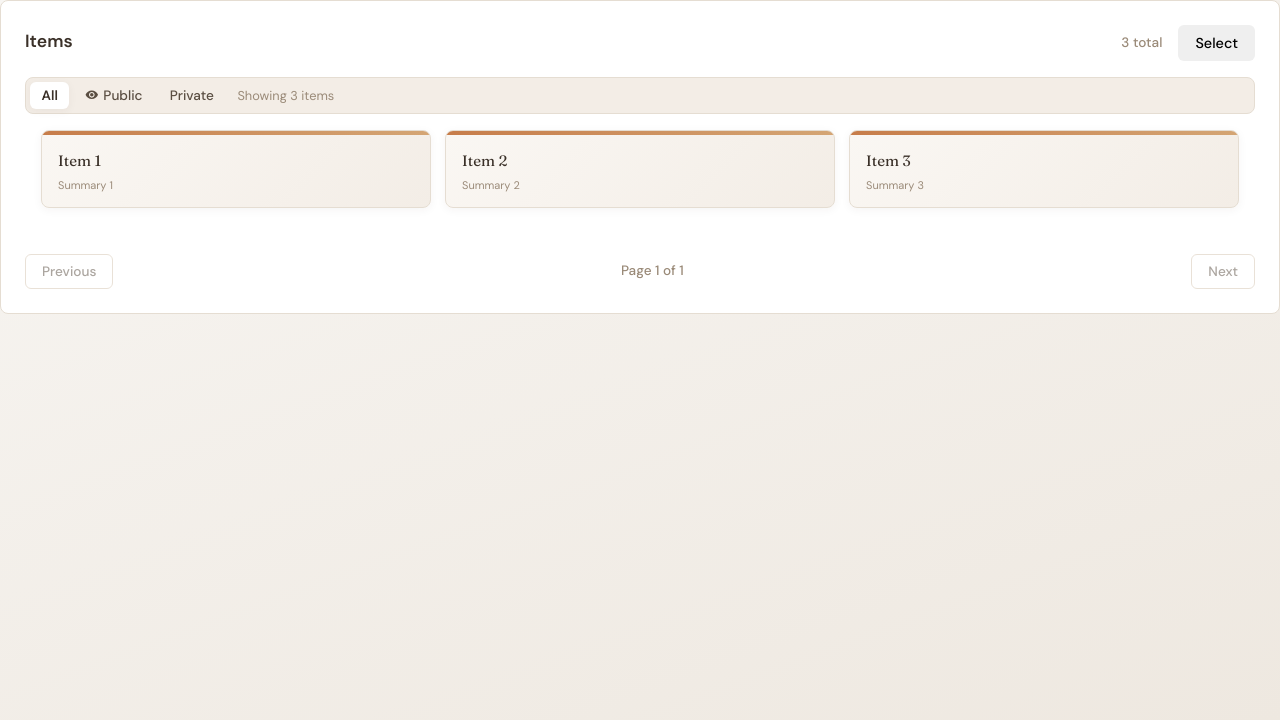
Test case: ItemList › visibility filter › should show No items when filter matches nothing
Step 1. Click the button with class "filter-btn" showing "Public" → (114, 95), box [74,82,154,108]
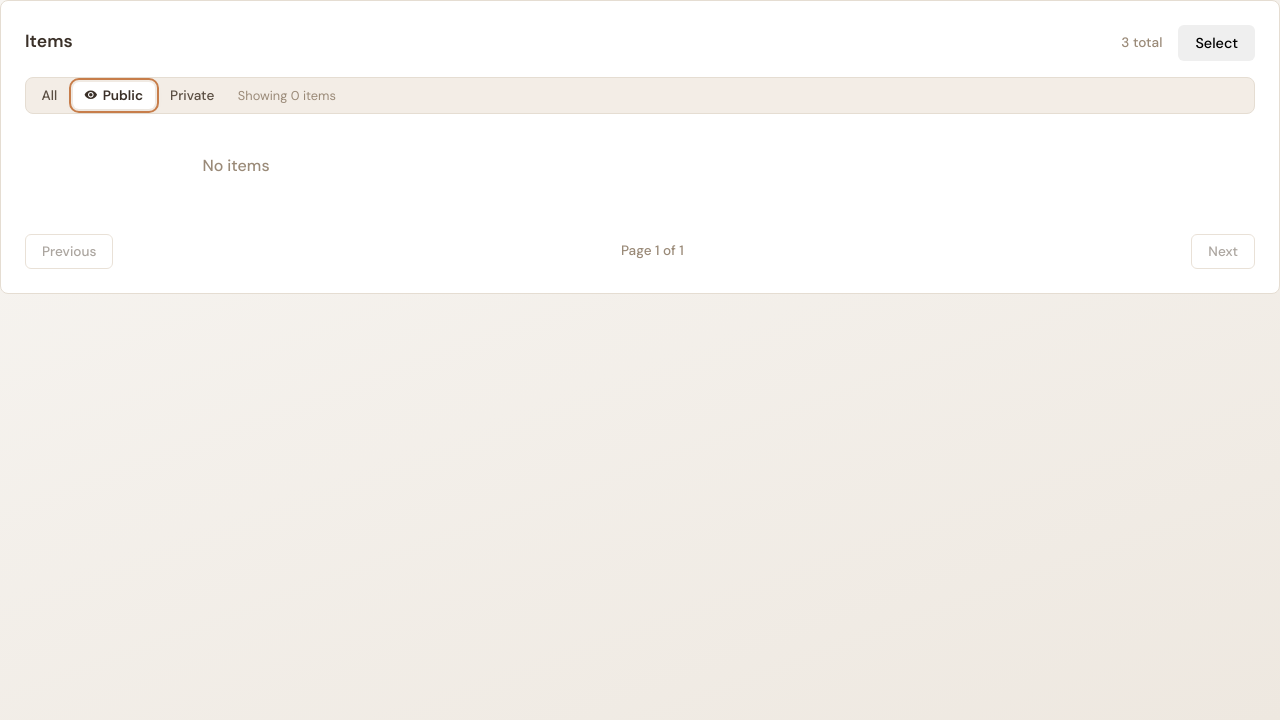
Check: the text "No items" is shown, box [202,154,270,176]
